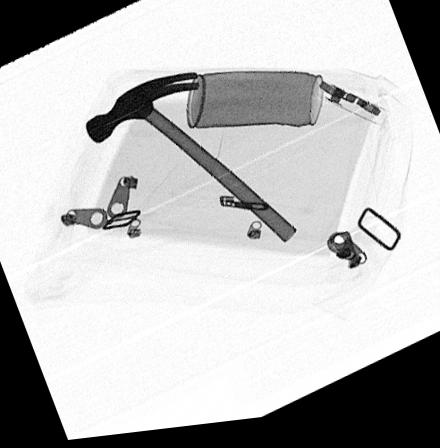Hammer: (84, 75, 297, 249)
